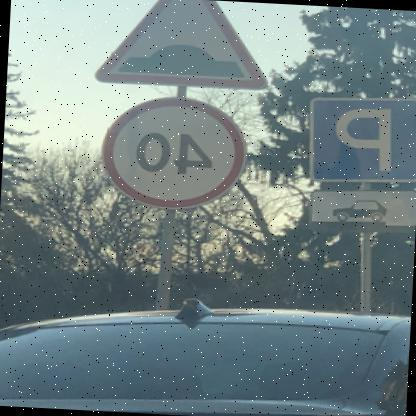speedlimit: (98, 91, 251, 210)
